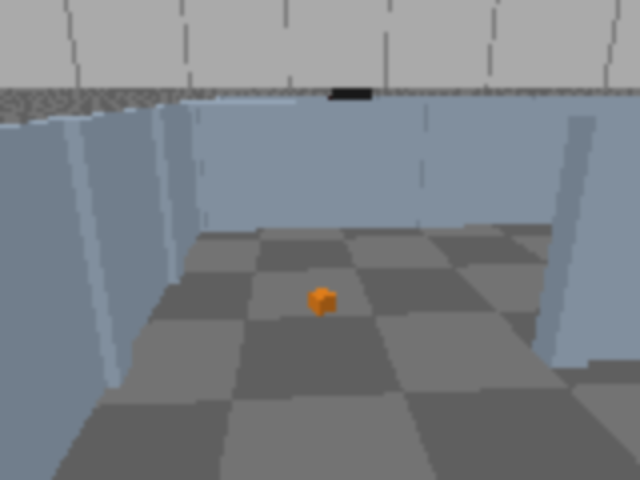puck: (308, 288, 336, 315)
